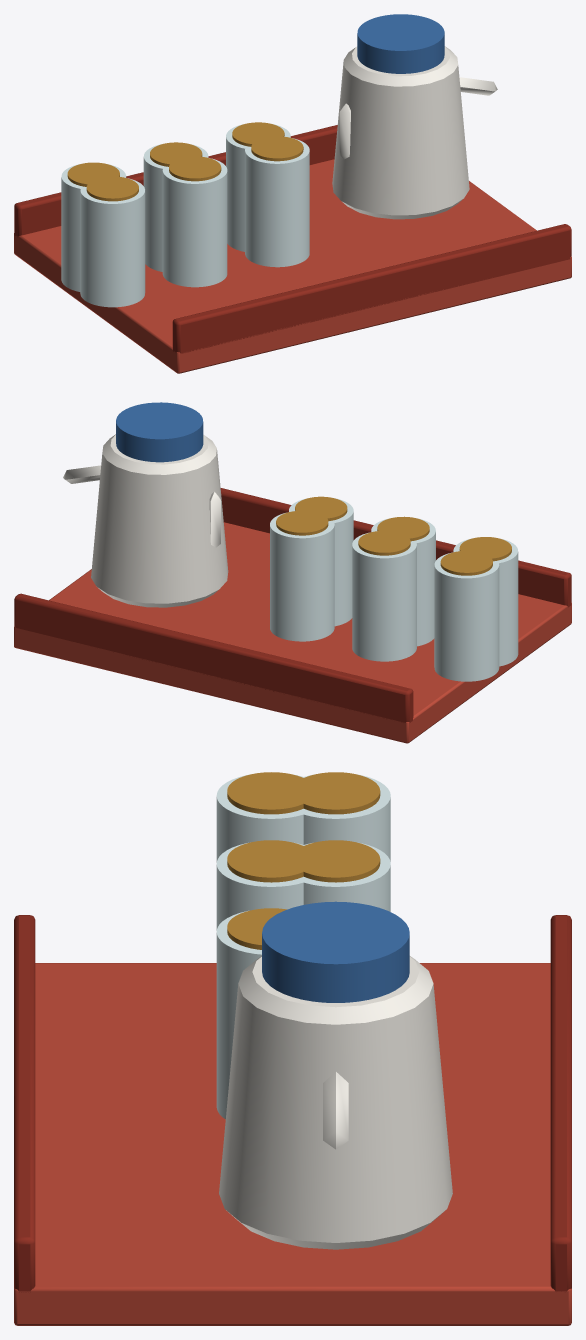
The model's file is KhayTra_LyThuyTinh.glb.
3 renders of one model, top to bottom at view 1: azimuth 30°, elevation 25°; view 2: azimuth 150°, elevation 25°; view 3: azimuth 270°, elevation 25°, orthographic. The views are drawn at different scales.
Parts seen in each view (by area): view 1: KhayTra_LyThuyTinh; view 2: KhayTra_LyThuyTinh; view 3: KhayTra_LyThuyTinh.
Part boxes in pixels (box(x1,y1,x2,y2)): KhayTra_LyThuyTinh: box(14, 14, 571, 373); KhayTra_LyThuyTinh: box(14, 402, 571, 743); KhayTra_LyThuyTinh: box(14, 772, 571, 1325).
Bounding box in the file's own units: 0.3938 × 0.17 × 0.26.
